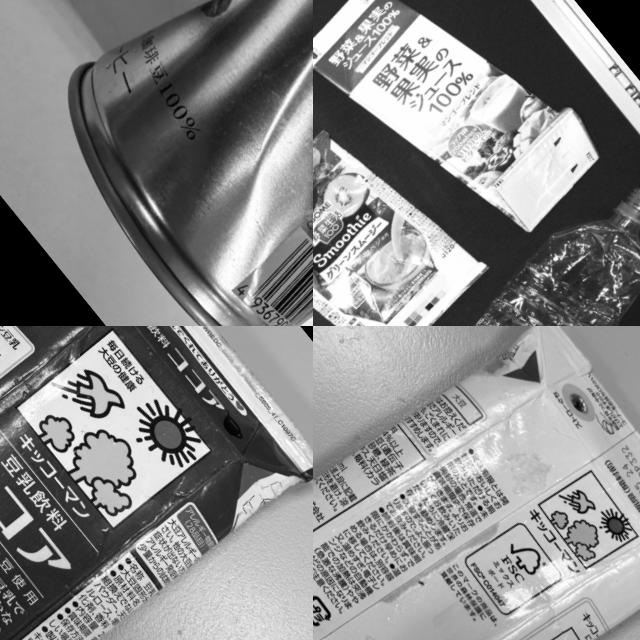Aluminium Foil: (313, 326, 640, 640), (0, 326, 313, 640), (313, 0, 613, 279), (313, 108, 496, 326)
Can: (44, 0, 313, 326)
Transparent Plastic Bottle: (384, 169, 640, 326)
